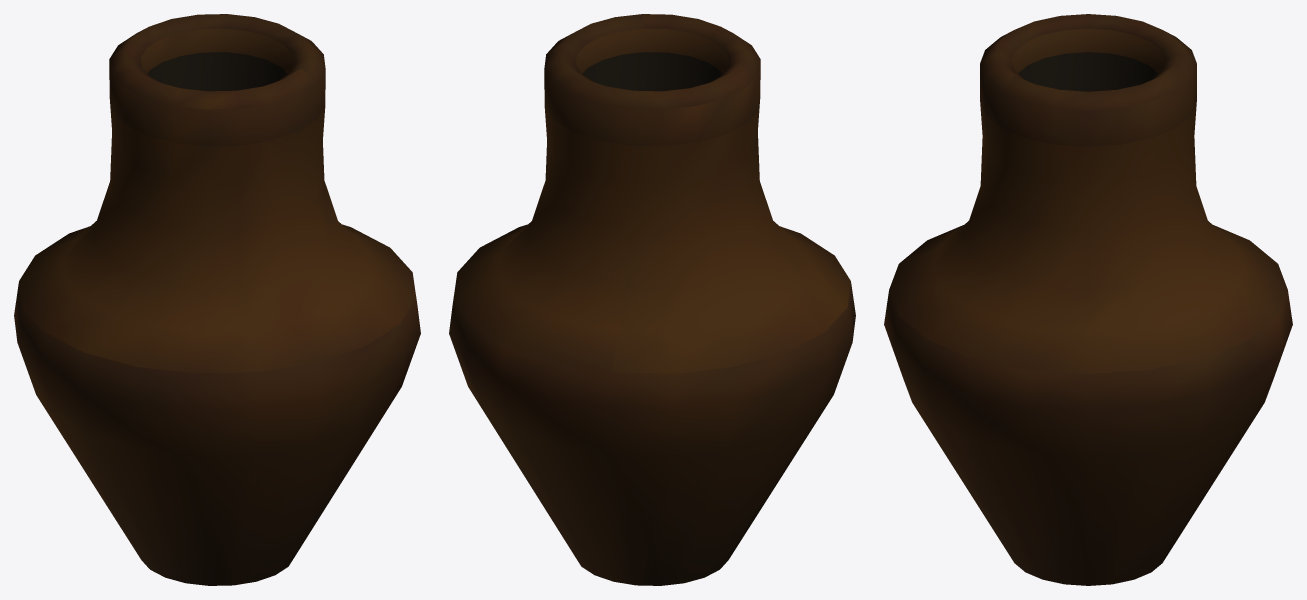
The model's file is urn_tall.glb.
3 renders of one model, left to right at view 1: azimuth 30°, elevation 25°; view 2: azimuth 150°, elevation 25°; view 3: azimuth 270°, elevation 25°, orthographic.
Visible parts, largest first — view 1: urn_tall; view 2: urn_tall; view 3: urn_tall.
Boxes of the visible parts, <box> form: urn_tall: <box>14,14,420,585</box>; urn_tall: <box>449,14,855,585</box>; urn_tall: <box>884,14,1292,585</box>.
Bounding box in the file's own units: 0.3596 × 0.4855 × 0.3596.
